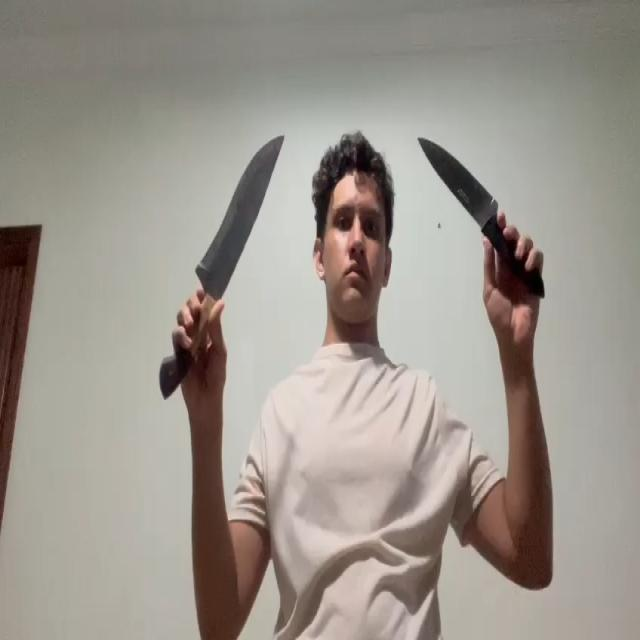Knife: (155, 133, 285, 413), (417, 129, 550, 335)
